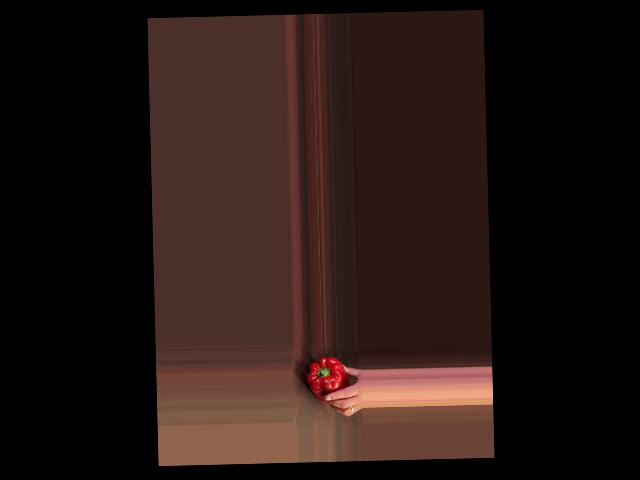bell_pepper: (305, 355, 348, 399)
